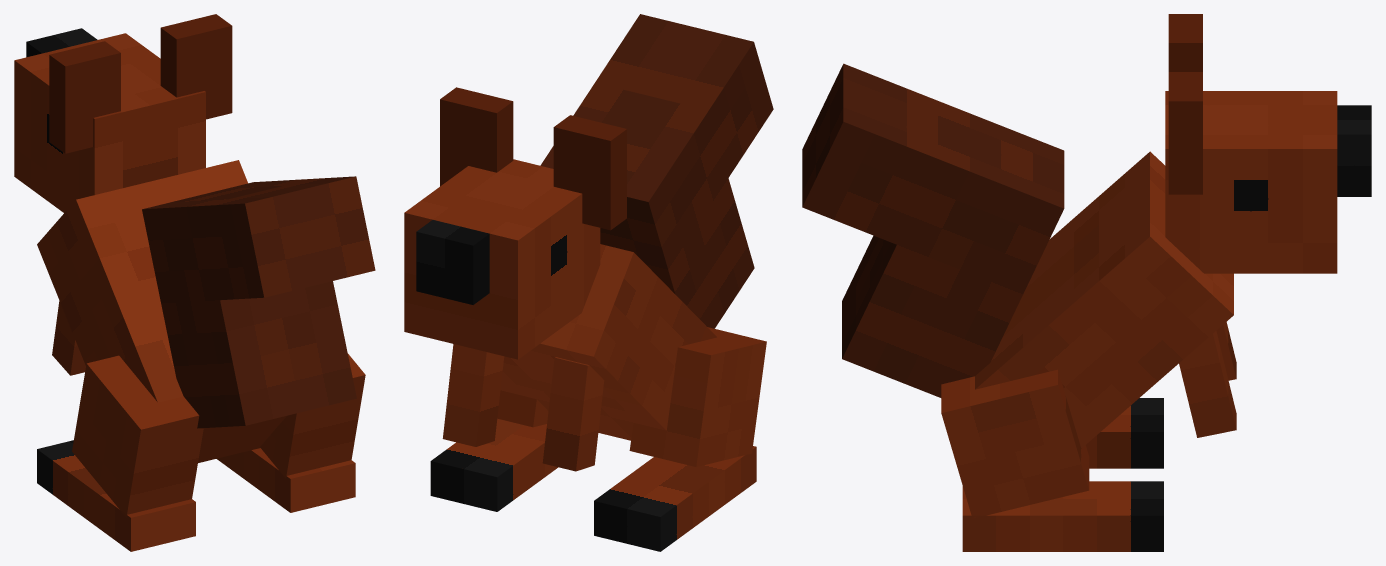
3 views of the same model, side by side, from view 1: azimuth 30°, elevation 25°; view 2: azimuth 150°, elevation 25°; view 3: azimuth 270°, elevation 25° (orthographic). The views are drawn at different scales.
Visible parts, largest first — view 1: cube_13, cube_0, cube_1, cube_14, cube_17, cube_18, cube_3, cube_5, cube_20, cube_21, cube_11, cube_2; view 2: cube_1, cube_13, cube_0, cube_14, cube_17, cube_18, cube_21, cube_3, cube_5, cube_11, cube_2, cube_9 (+1 smaller); view 3: cube_13, cube_0, cube_1, cube_14, cube_20, cube_21, cube_5, cube_18, cube_9, cube_2, cube_3, cube_11.
Boxes of the visible parts, x1,y1,x2,y2 form: cube_13: [142, 179, 356, 428]; cube_0: [37, 160, 286, 462]; cube_1: [14, 33, 205, 212]; cube_14: [201, 176, 375, 300]; cube_17: [72, 355, 203, 517]; cube_18: [37, 440, 195, 551]; cube_3: [49, 41, 120, 153]; cube_5: [160, 14, 232, 119]; cube_20: [260, 354, 365, 478]; cube_21: [216, 448, 355, 512]; cube_11: [52, 301, 85, 375]; cube_2: [26, 28, 97, 57]; cube_1: [404, 159, 600, 359]; cube_13: [540, 83, 754, 328]; cube_0: [500, 244, 716, 440]; cube_14: [595, 14, 773, 177]; cube_17: [629, 327, 766, 466]; cube_18: [594, 446, 756, 551]; cube_21: [430, 418, 557, 511]; cube_3: [553, 115, 626, 230]; cube_5: [440, 87, 513, 186]; cube_11: [542, 357, 604, 471]; cube_2: [416, 220, 489, 304]; cube_9: [442, 344, 504, 446]; cube_13: [842, 101, 1064, 397]; cube_0: [975, 151, 1233, 448]; cube_1: [1165, 91, 1337, 273]; cube_14: [802, 63, 937, 244]; cube_20: [941, 369, 1089, 518]; cube_21: [962, 481, 1163, 551]; cube_5: [1168, 72, 1202, 194]; cube_18: [1086, 398, 1163, 468]; cube_9: [1179, 331, 1236, 437]; cube_2: [1337, 105, 1371, 196]; cube_3: [1168, 14, 1202, 71]; cube_11: [1216, 322, 1236, 380].
Size of the model in its own units: 0.5046 by 0.875 by 1.03.
